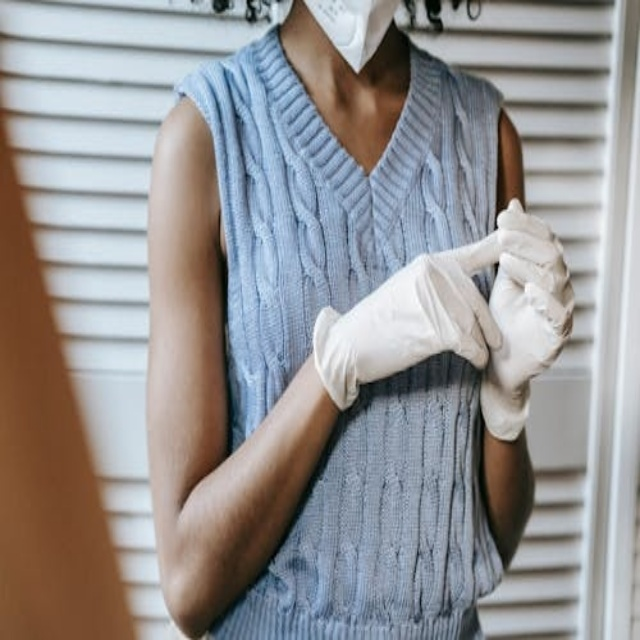Guantes: (313, 234, 504, 415), (479, 198, 575, 440)
Mascara: (297, 0, 406, 75)
